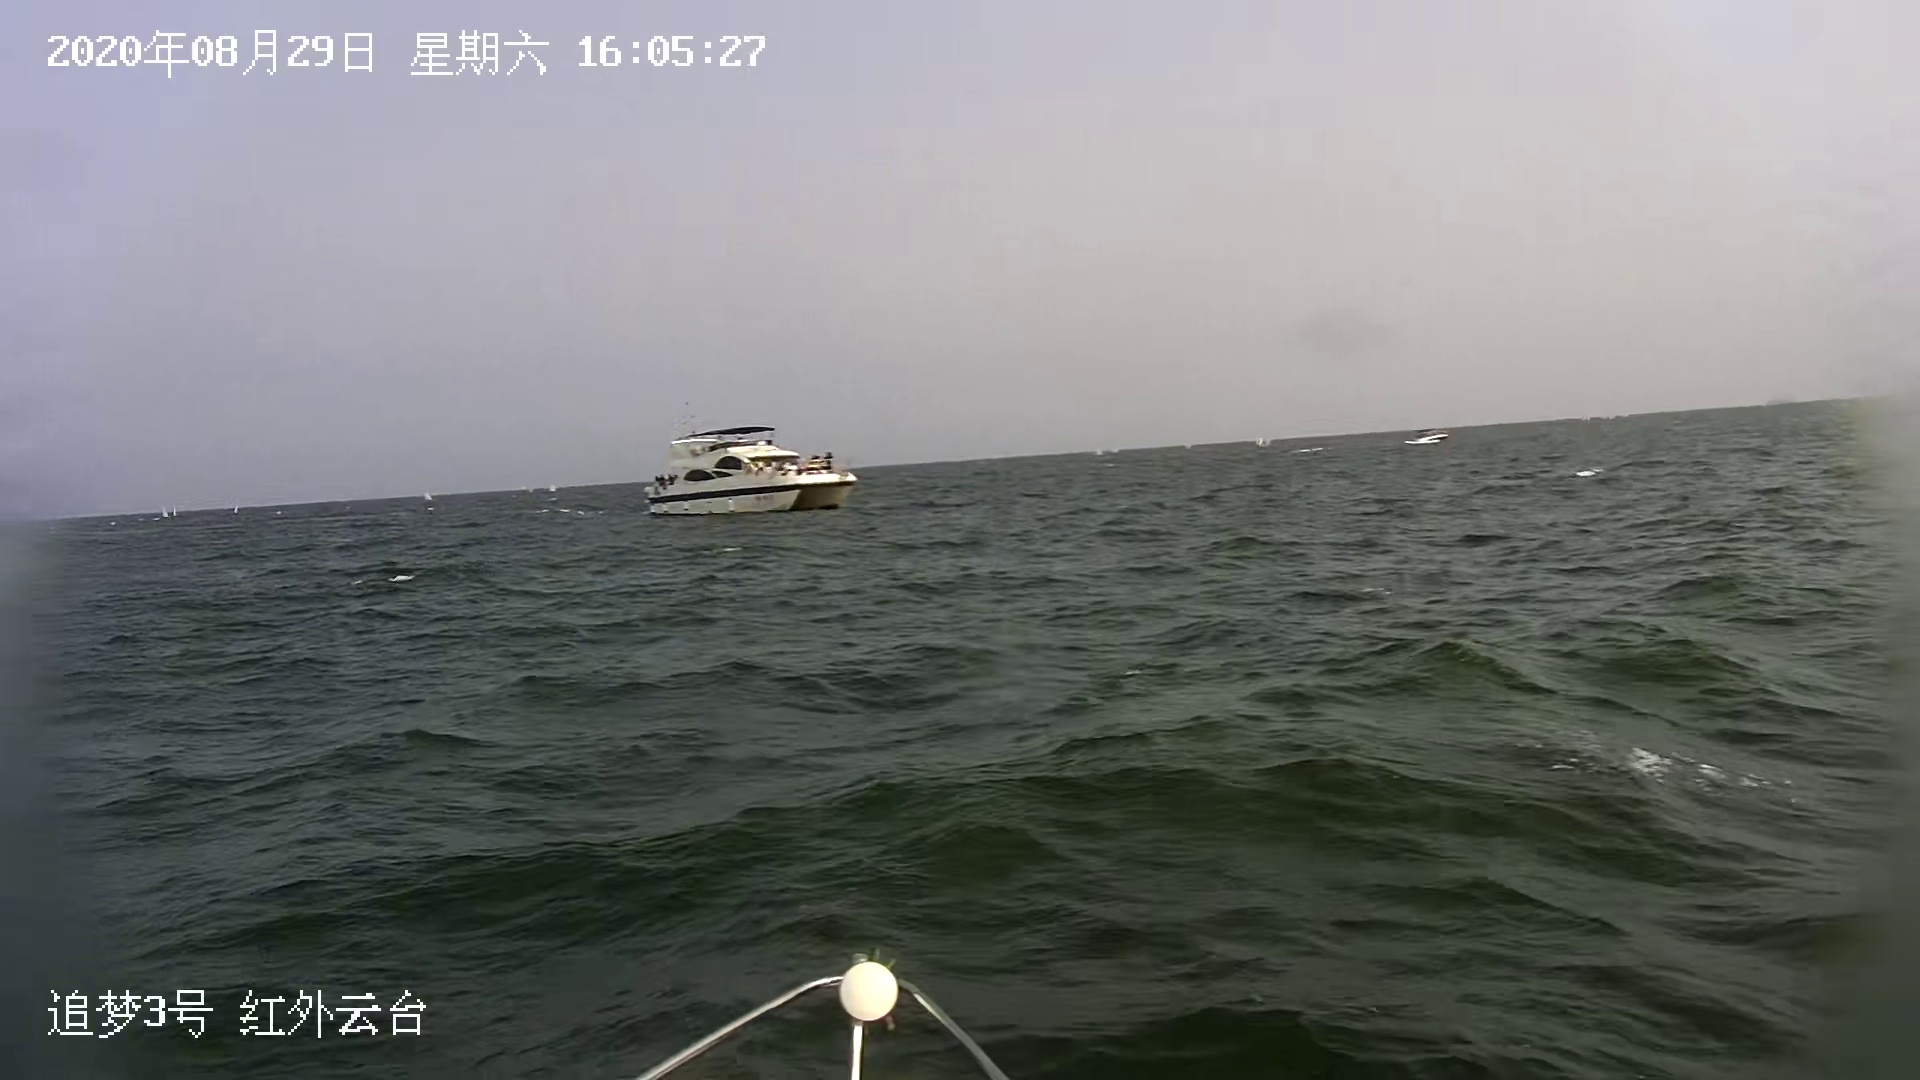barrier: (638, 418, 865, 518), (1408, 429, 1452, 446), (425, 491, 435, 514), (1255, 435, 1273, 450), (160, 505, 170, 520), (1095, 448, 1105, 458), (171, 506, 178, 520), (1112, 446, 1120, 455), (233, 504, 240, 514)
